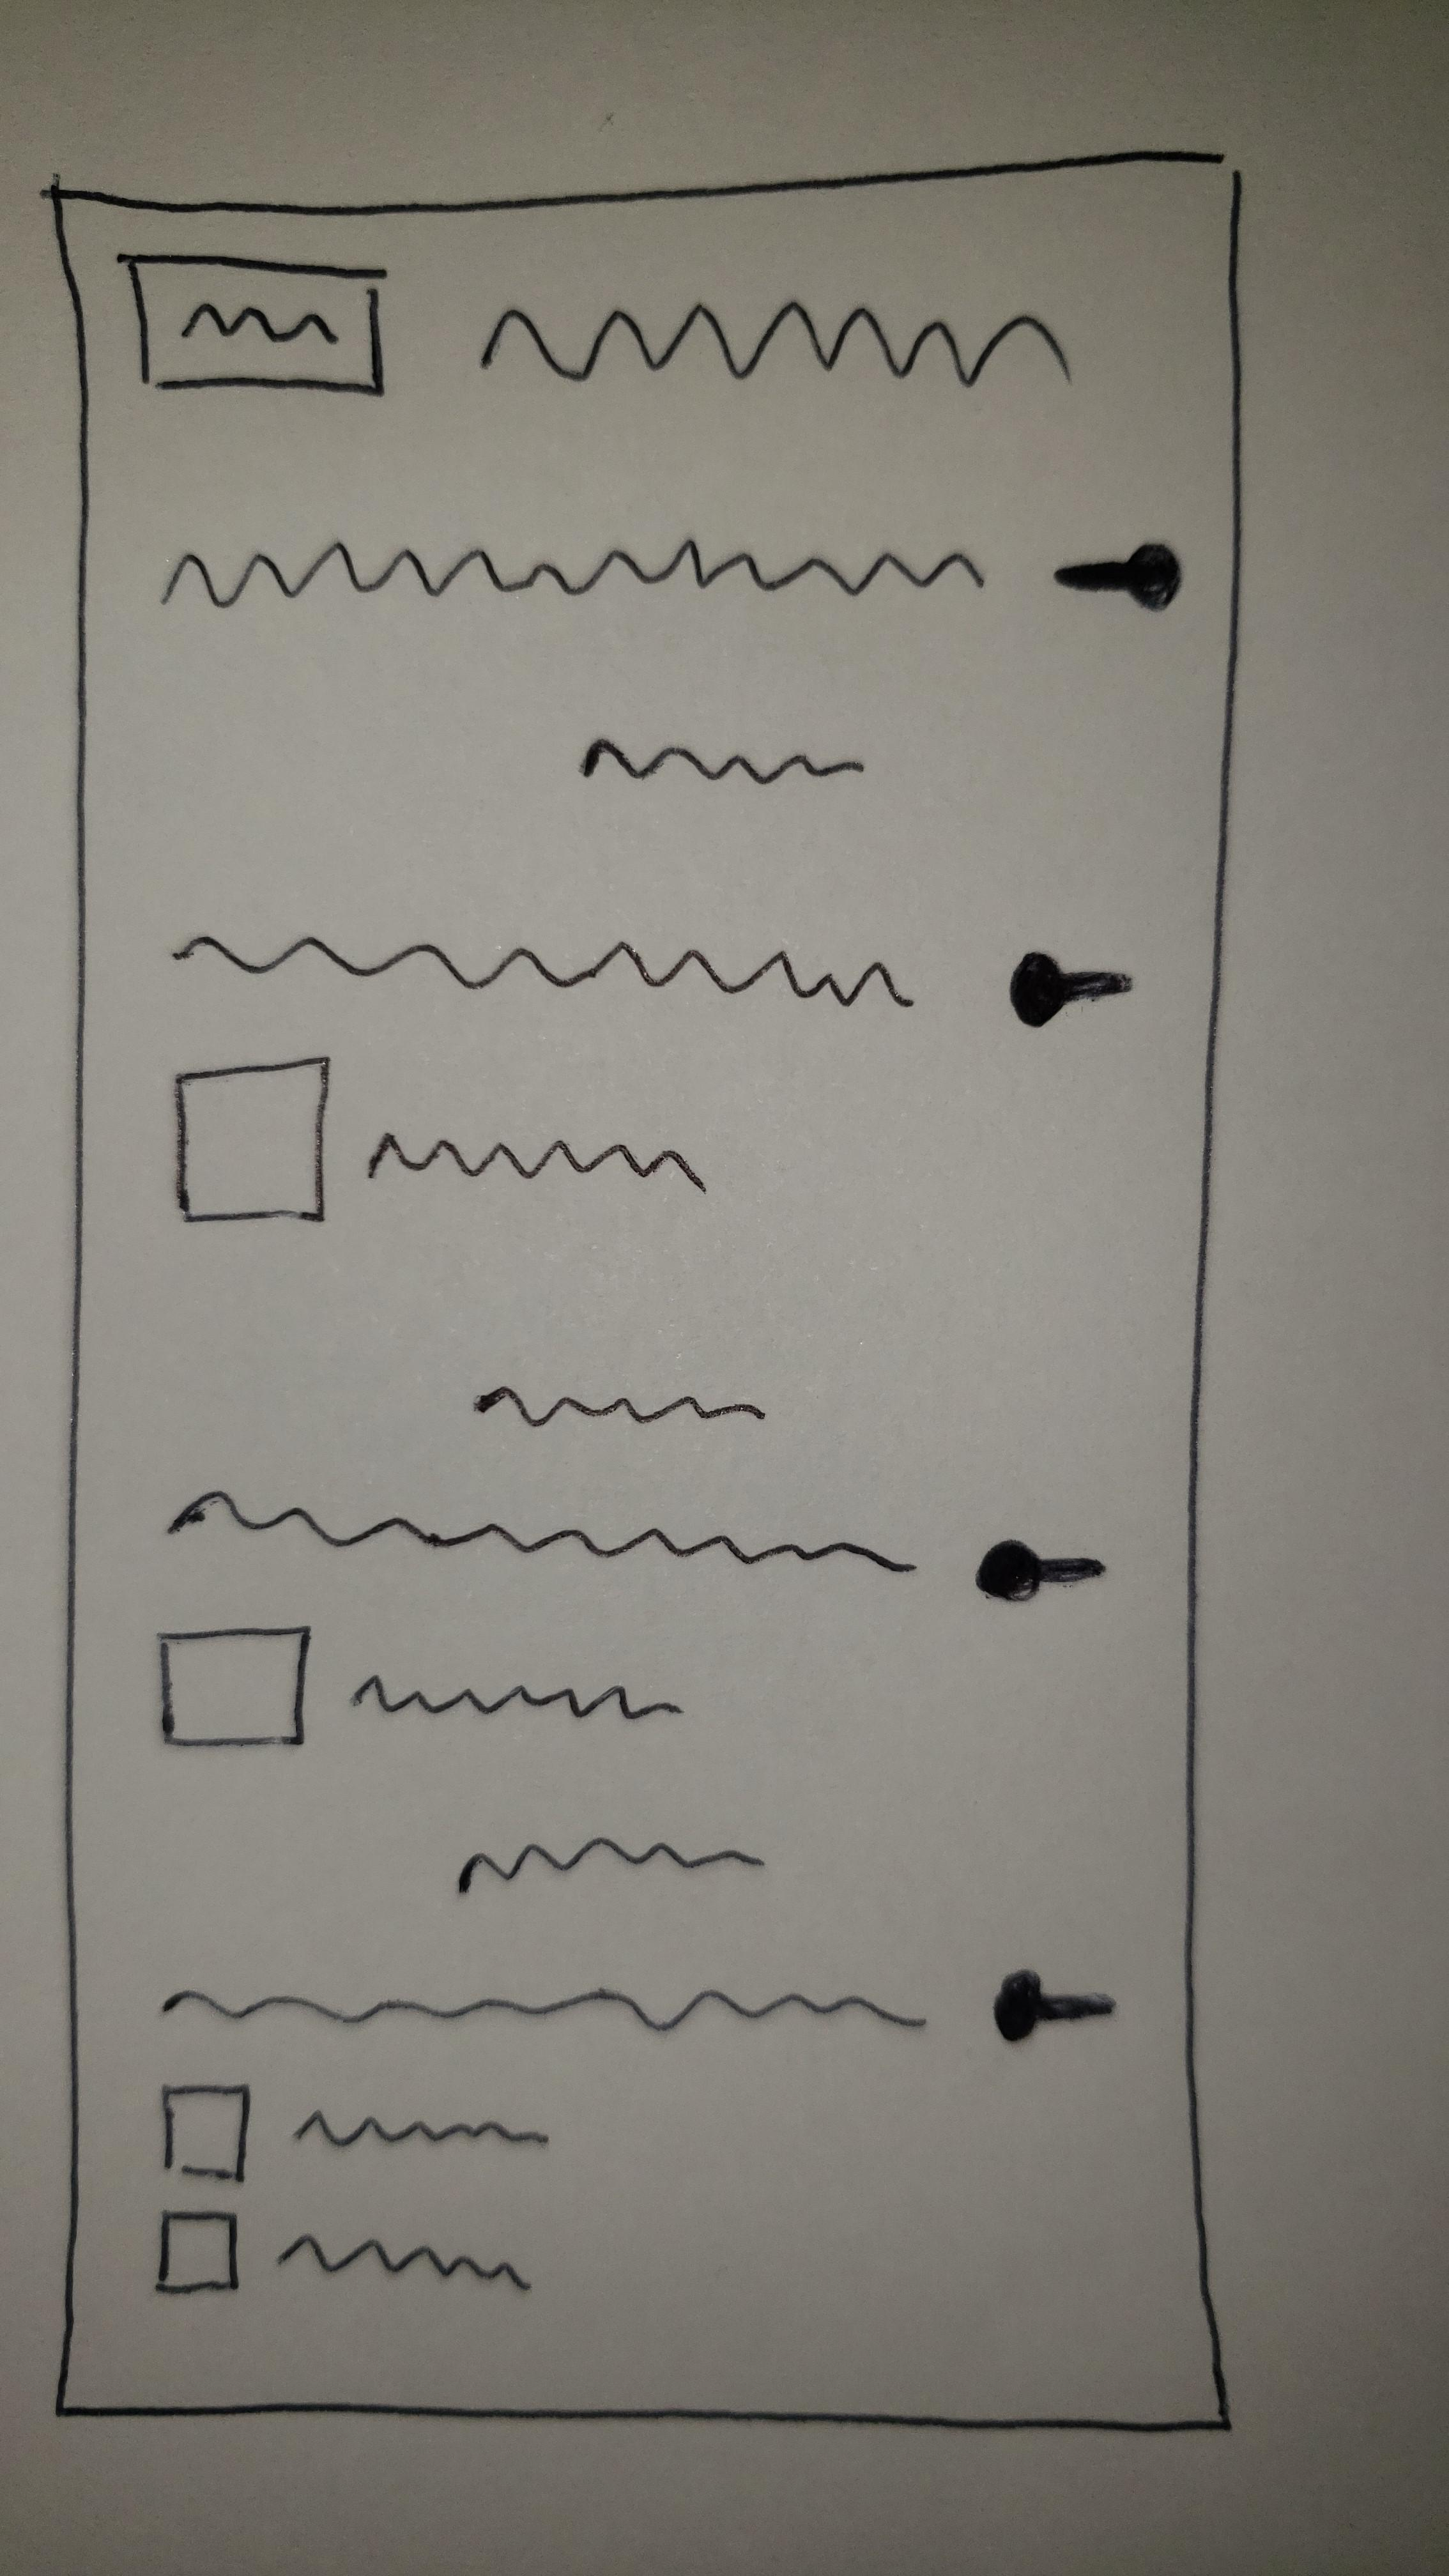Button: (115, 251, 389, 400)
CheckBox: (170, 1054, 708, 1224), (154, 1622, 683, 1750), (159, 2081, 552, 2181), (154, 2208, 534, 2300)
Label: (478, 301, 1074, 386), (455, 1838, 764, 1897), (579, 738, 867, 784), (476, 1385, 763, 1430)
Screen: (42, 150, 1244, 2436)
Switch: (165, 1490, 1106, 1606), (172, 936, 1134, 1028), (154, 1966, 1118, 2045), (156, 540, 1187, 614)
